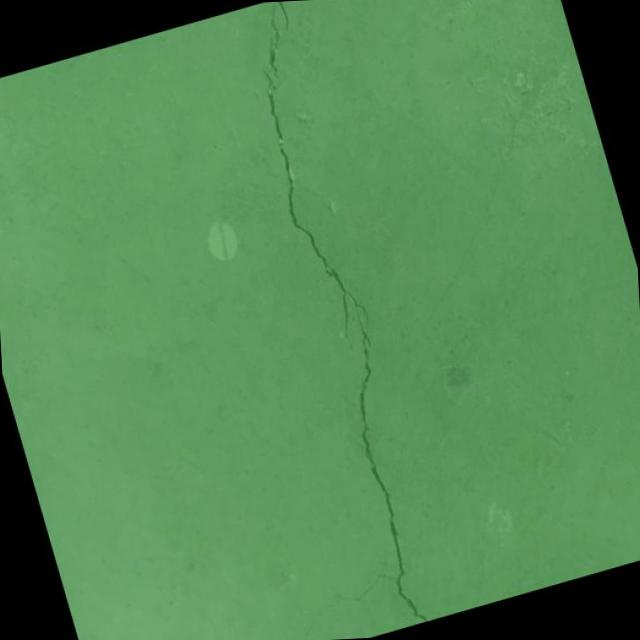crack: (178, 0, 461, 640)
